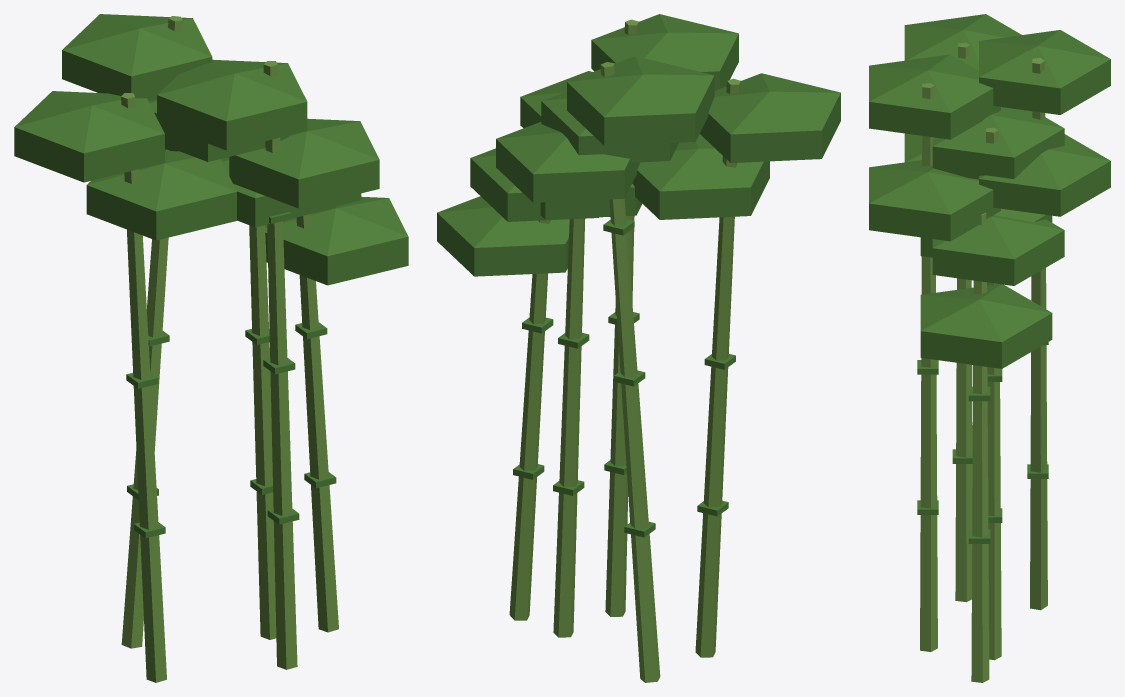
File: nature_bamboo_b.glb
The picture shows the model from 3 angles, left to right: view 1: azimuth 30°, elevation 25°; view 2: azimuth 150°, elevation 25°; view 3: azimuth 270°, elevation 25°; orthographic projection. The views are drawn at different scales.
Visible parts, largest first — view 1: nature_bamboo_b; view 2: nature_bamboo_b; view 3: nature_bamboo_b.
Boxes of the visible parts, x1=… form: nature_bamboo_b: x1=14, y1=14, x2=408, y2=682; nature_bamboo_b: x1=437, y1=14, x2=840, y2=682; nature_bamboo_b: x1=869, y1=14, x2=1110, y2=682.
Size of the model in its own units: 2.65 by 4.08 by 1.58.
